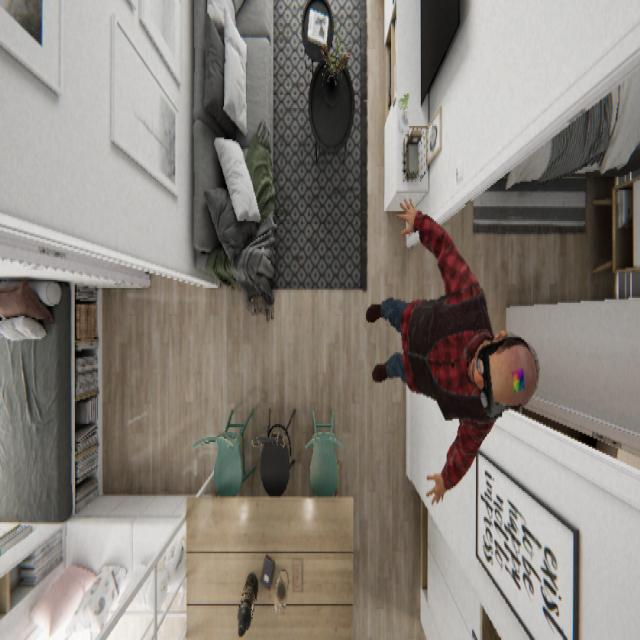Colored-Marker: (510, 364, 526, 394)
Human: (364, 195, 540, 504)
